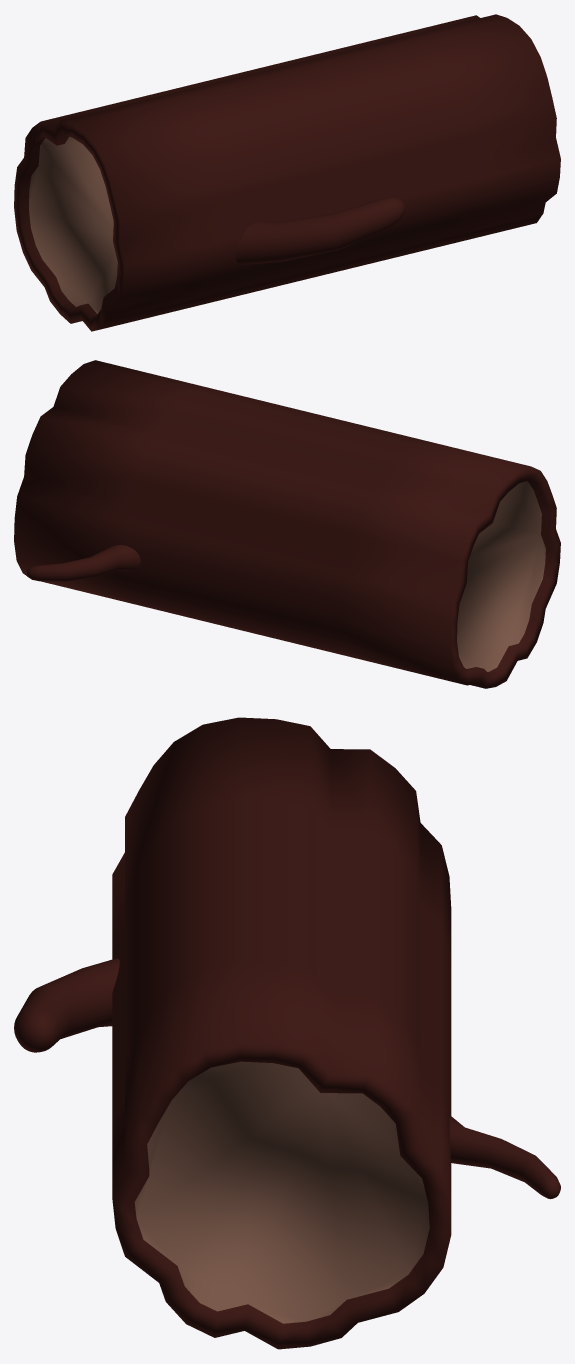
Rendered from log.glb.
The picture shows the model from 3 angles, top to bottom: view 1: azimuth 30°, elevation 25°; view 2: azimuth 150°, elevation 25°; view 3: azimuth 270°, elevation 25°; orthographic projection. The views are drawn at different scales.
Parts seen in each view (by area): view 1: log; view 2: log; view 3: log.
Part boxes in pixels (x1,y1,x2,y2): log: [14, 14, 560, 331]; log: [14, 360, 560, 688]; log: [14, 717, 560, 1349].
Bounding box in the file's own units: 1.01 × 0.4438 × 0.7162.
